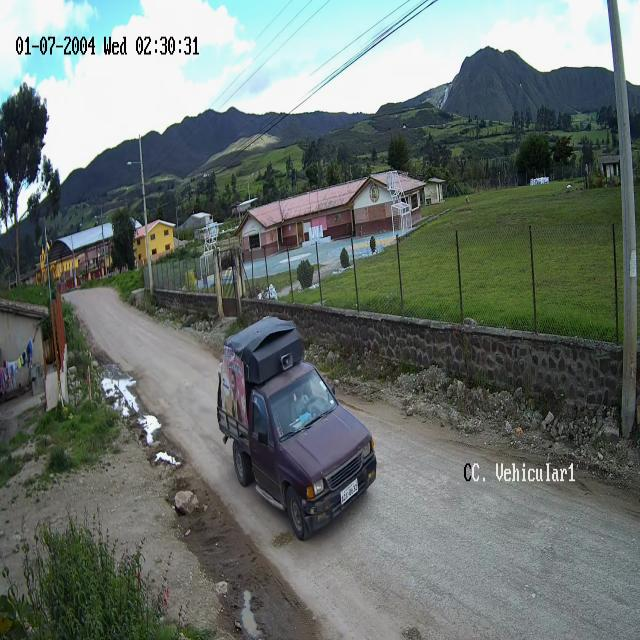CMT: (217, 318, 377, 542)
